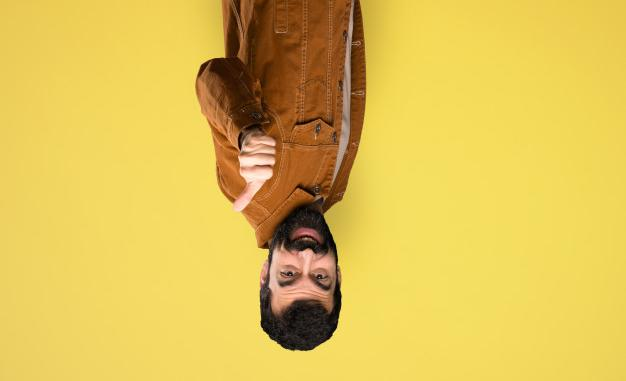thumbsdown: (233, 134, 277, 212)
